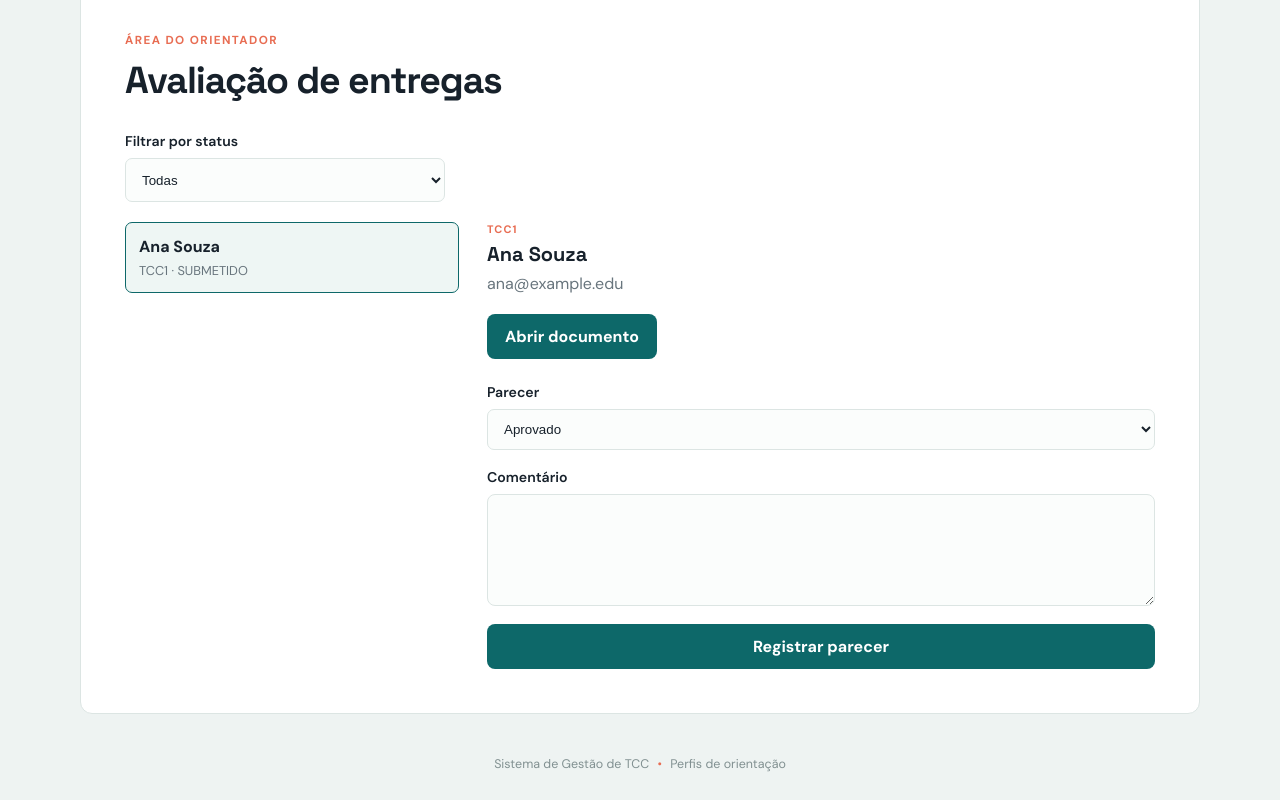
Scenario: AvaliacaoEntregaPage › envia comentário nulo ao aprovar sem comentário
(page scrolled)
Check: the dropdown labelled "Parecer" is shown, box x1=487 y1=409 x2=1155 y2=450
Click the button "Registrar parecer". click: [821, 646]
box: x1=487 y1=624 x2=1155 y2=669
(page scrolled)
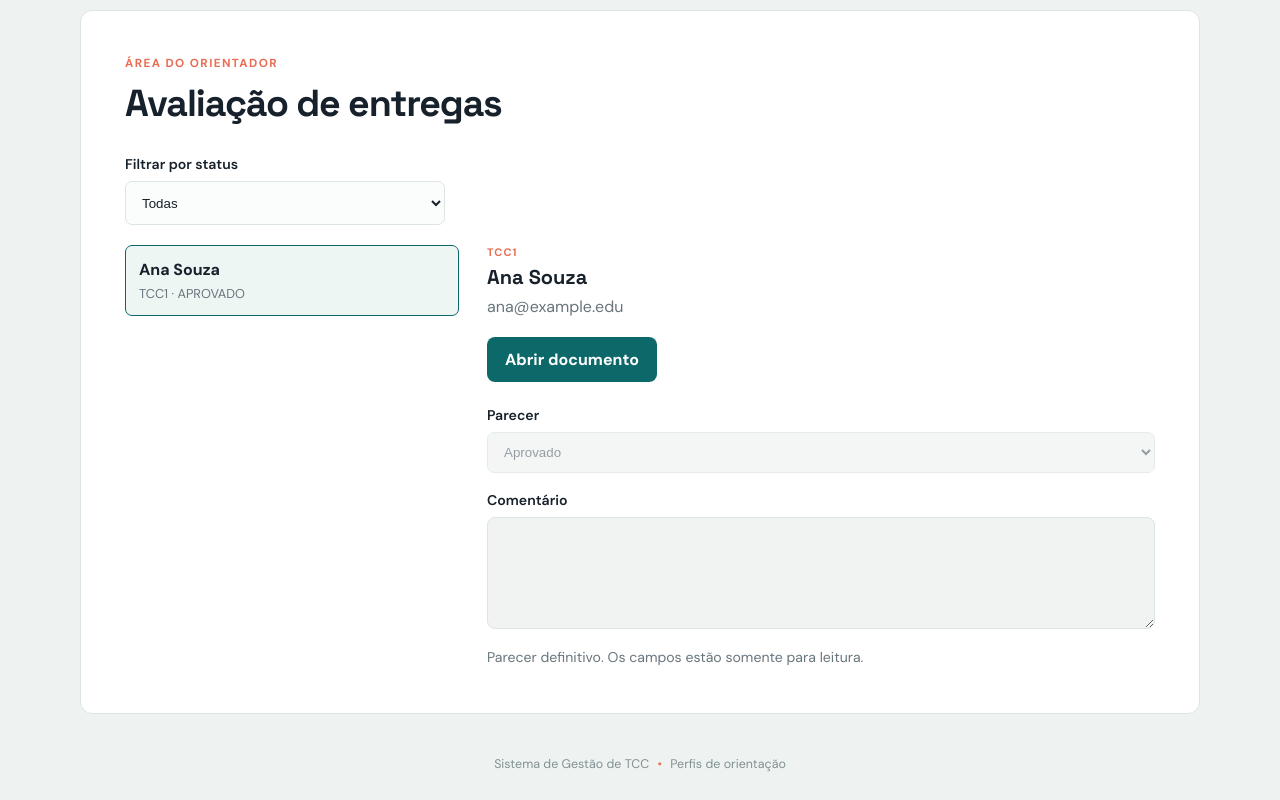
Check: the text "Parecer definitivo. Os campos estão somente para leitura." is shown, box x1=487 y1=648 x2=863 y2=666
Check: the dropdown labelled "Parecer" is disabled, box x1=487 y1=432 x2=1155 y2=473
